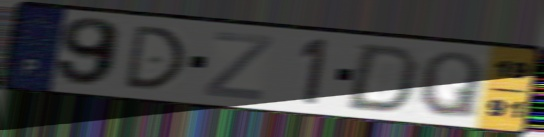1: (296, 37, 329, 108)
9: (55, 15, 129, 91)
D: (341, 42, 424, 115), (121, 23, 189, 91)
Q: (415, 49, 486, 122)
Z: (200, 29, 276, 103)
